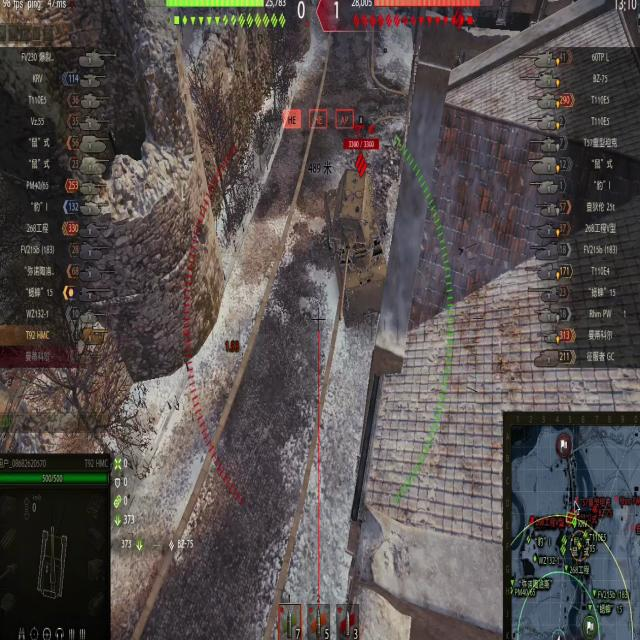tank: (316, 136, 389, 317)
